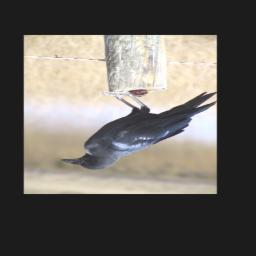Crow: (58, 89, 216, 171)
